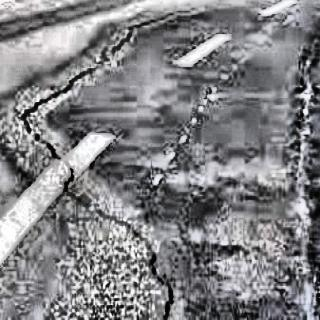alligator-crack: (287, 20, 320, 319)
crack: (64, 188, 185, 320), (22, 76, 74, 186), (72, 3, 212, 34), (78, 39, 128, 79)
